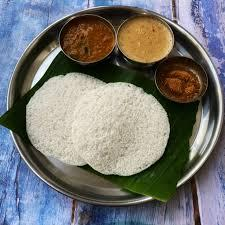idli: (27, 80, 160, 170)
sambhar: (61, 18, 111, 65)
